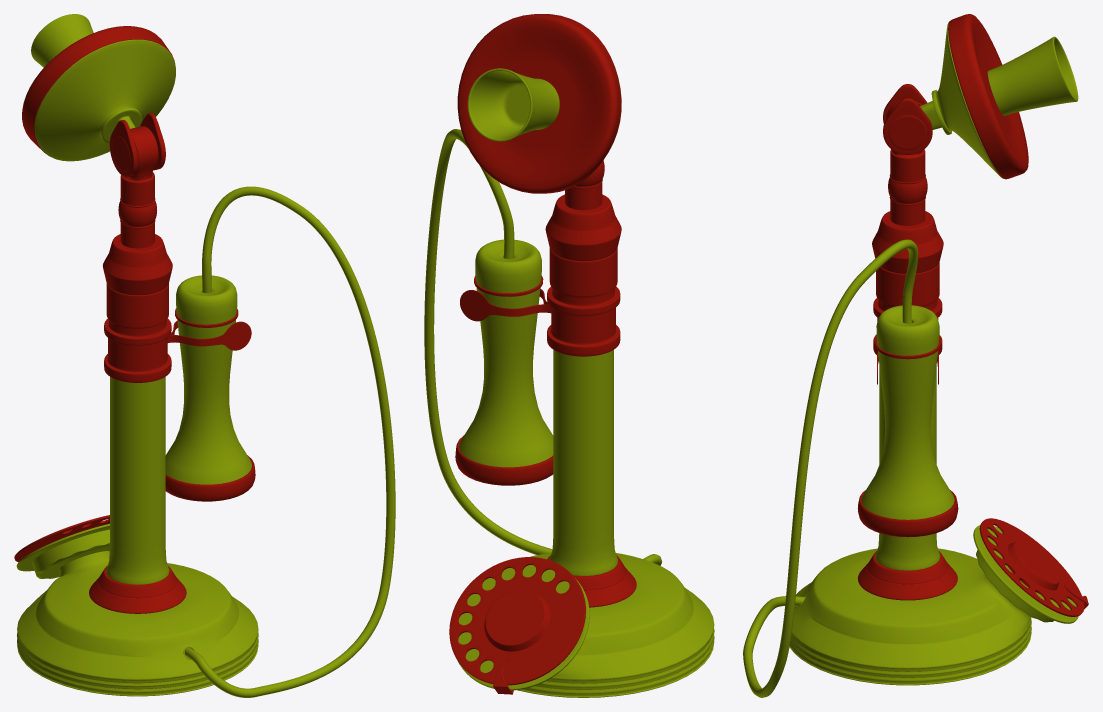
The model's file is phone_SKETCH.fbx.
3 renders of one model, left to right at view 1: azimuth 30°, elevation 25°; view 2: azimuth 150°, elevation 25°; view 3: azimuth 270°, elevation 25°, orthographic. The views are drawn at different scales.
Parts seen in each view (by area): view 1: Wood_base, Wood_tube_base, handset, Wood_mic, Gold_Join, Power_cable, Move_join, Gold_mic, Gold_Footing, handset_Gold_element, Plastic_mic, Wood_Eior_tap (+4 smaller); view 2: Gold_mic, Wood_base, Wood_tube_base, handset, Gold_Join, Gold_Arnametn_number, Power_cable, Plastic_mic, Gold_cap, Wood_Number_pad, handset_Gold_element, Gold_Footing (+2 smaller); view 3: Wood_base, handset, Power_cable, Gold_mic, Move_join, Gold_Join, Plastic_mic, Gold_Arnametn_number, Gold_Footing, Wood_tube_base, Wood_mic, handset_Gold_element (+4 smaller).
Part boxes in pixels (<box>): Wood_base: <box>17,551,258,696</box>; Wood_tube_base: <box>106,377,169,584</box>; handset: <box>165,275,251,484</box>; Wood_mic: <box>34,39,175,161</box>; Gold_Join: <box>103,234,172,382</box>; Power_cable: <box>184,186,395,697</box>; Move_join: <box>109,113,165,248</box>; Gold_mic: <box>22,26,175,155</box>; Gold_Footing: <box>89,566,186,613</box>; handset_Gold_element: <box>165,308,255,501</box>; Plastic_mic: <box>31,14,93,67</box>; Wood_Eior_tap: <box>32,529,109,578</box>; Gold_mic: <box>457,14,621,193</box>; Wood_base: <box>517,552,714,697</box>; Wood_tube_base: <box>549,350,617,575</box>; handset: <box>459,239,553,467</box>; Gold_Join: <box>545,194,621,356</box>; Gold_Arnametn_number: <box>449,557,585,685</box>; Power_cable: <box>424,129,662,565</box>; Plastic_mic: <box>467,68,559,141</box>; Gold_cap: <box>484,589,550,651</box>; Wood_Number_pad: <box>458,565,589,690</box>; handset_Gold_element: <box>455,275,553,485</box>; Gold_Footing: <box>547,555,636,607</box>; Wood_base: <box>789,548,1031,685</box>; handset: <box>861,305,954,519</box>; Power_cable: <box>743,239,918,697</box>; Gold_mic: <box>948,14,1028,179</box>; Move_join: <box>883,84,932,225</box>; Gold_Join: <box>872,211,943,354</box>; Plastic_mic: <box>987,36,1078,115</box>; Gold_Arnametn_number: <box>979,518,1084,616</box>; Gold_Footing: <box>857,551,957,600</box>; Wood_tube_base: <box>875,366,940,570</box>; Wood_mic: <box>936,22,1004,178</box>; handset_Gold_element: <box>857,339,958,537</box>.
Bounding box in the file's own units: 57.02 × 107 × 54.53.
